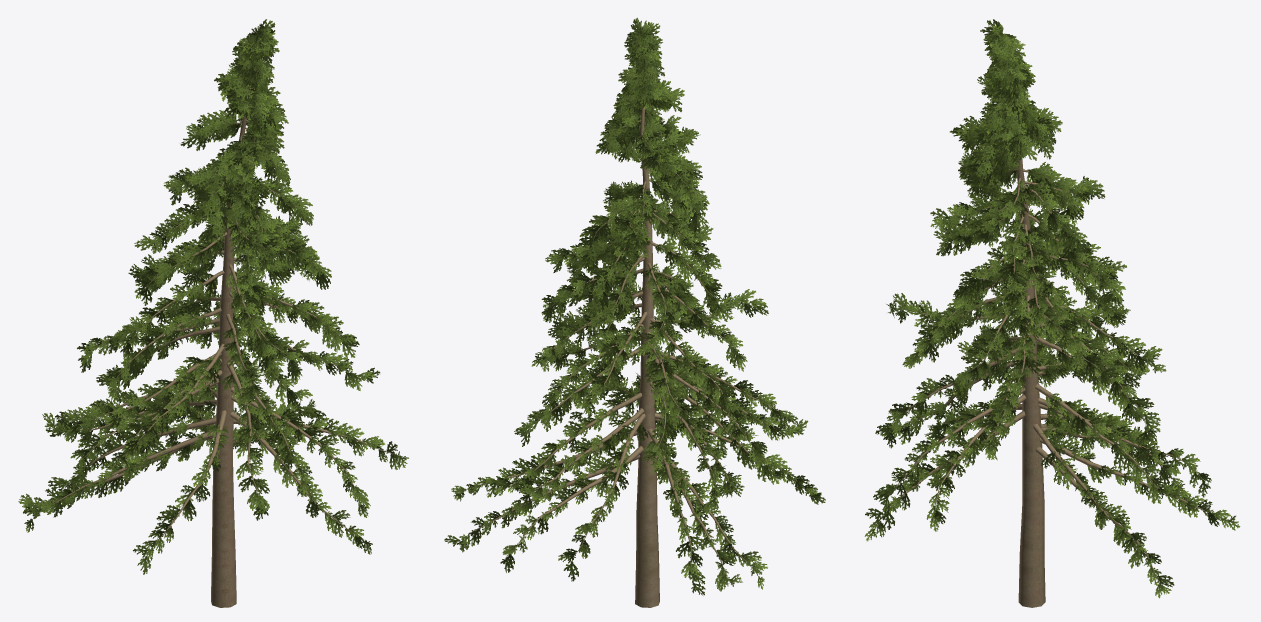
The model's file is pine_medium_01.glb.
3 renders of one model, left to right at view 1: azimuth 30°, elevation 25°; view 2: azimuth 150°, elevation 25°; view 3: azimuth 270°, elevation 25°, orthographic. The views are drawn at different scales.
Visible parts, largest first — view 1: Tree; view 2: Tree; view 3: Tree.
Boxes of the visible parts, x1,y1,x2,y2 form: Tree: [18, 19, 408, 607]; Tree: [444, 17, 825, 607]; Tree: [864, 19, 1240, 607].
Size of the model in its own units: 28.89 by 51.1 by 29.97.
2 materials, 2 textured.
